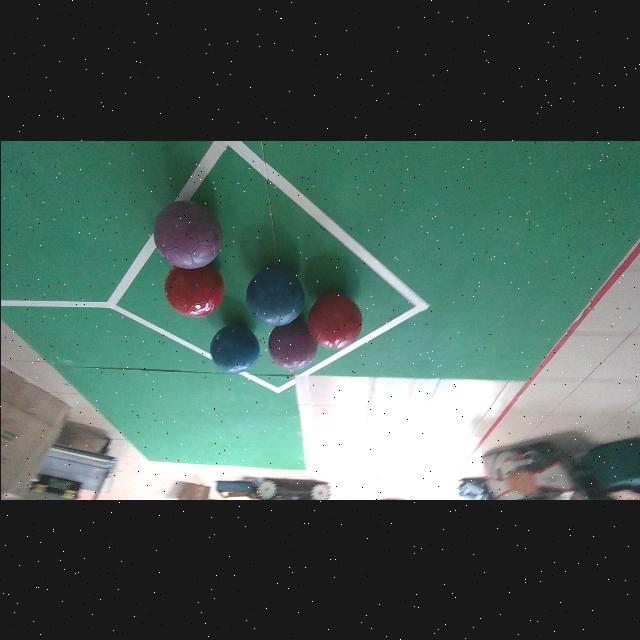B: (245, 266, 304, 325), (210, 326, 258, 374)
P: (154, 200, 220, 269), (267, 320, 317, 370)
R: (307, 293, 362, 349), (164, 265, 223, 317)
